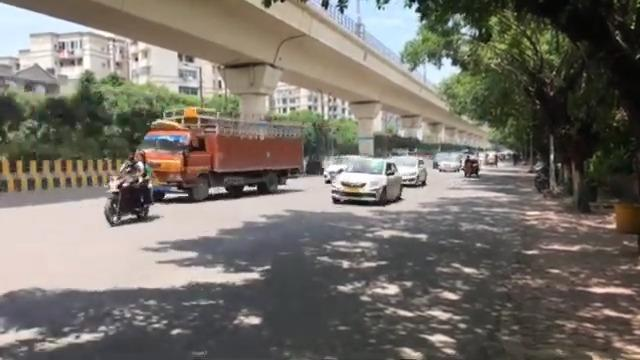Bike: (103, 142, 154, 226), (533, 149, 550, 192), (462, 155, 479, 177)
Car: (330, 156, 402, 205)
Truck: (134, 108, 308, 204)
